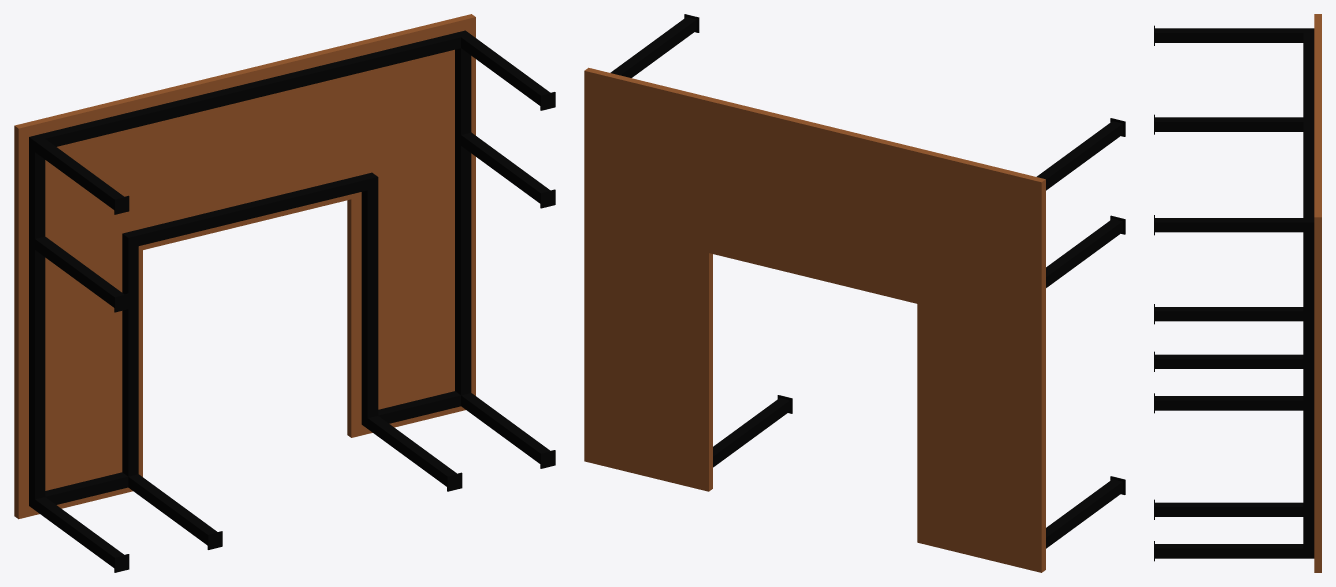
Rendered from u_table.obj.
3 renders of one model, left to right at view 1: azimuth 30°, elevation 25°; view 2: azimuth 150°, elevation 25°; view 3: azimuth 270°, elevation 25°, orthographic. The views are drawn at different scales.
Parts seen in each view (by area): view 1: Solid1, Solid5, Solid4, Solid2; view 2: Solid1, Solid4; view 3: Solid4, Solid5, Solid1.
Part boxes in pixels (<box>): Solid1: <box>14,14,475,519</box>; Solid5: <box>29,30,471,509</box>; Solid4: <box>35,35,550,567</box>; Solid2: <box>114,92,555,572</box>; Solid1: <box>584,67,1045,572</box>; Solid4: <box>610,17,1122,548</box>; Solid4: <box>1155,28,1303,558</box>; Solid5: <box>1303,28,1314,558</box>; Solid1: <box>1314,14,1321,572</box>.
Size of the model in its own units: 2205 by 1800 by 770.
